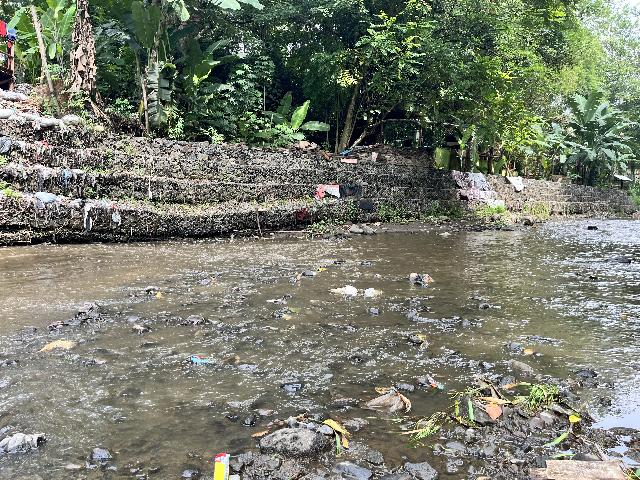Sampah Anorganik: (358, 386, 414, 414), (213, 452, 232, 480), (187, 352, 218, 366), (326, 285, 358, 297), (408, 273, 437, 286), (425, 377, 442, 388), (362, 288, 382, 297), (265, 299, 286, 305), (316, 267, 328, 271), (232, 287, 240, 290)
Sampah Organik: (451, 382, 640, 480), (251, 414, 350, 455), (35, 341, 74, 351), (409, 330, 429, 346), (279, 307, 298, 321), (520, 346, 535, 355), (49, 320, 66, 327), (193, 319, 208, 325), (208, 276, 218, 282), (156, 292, 162, 300), (297, 275, 301, 282)
